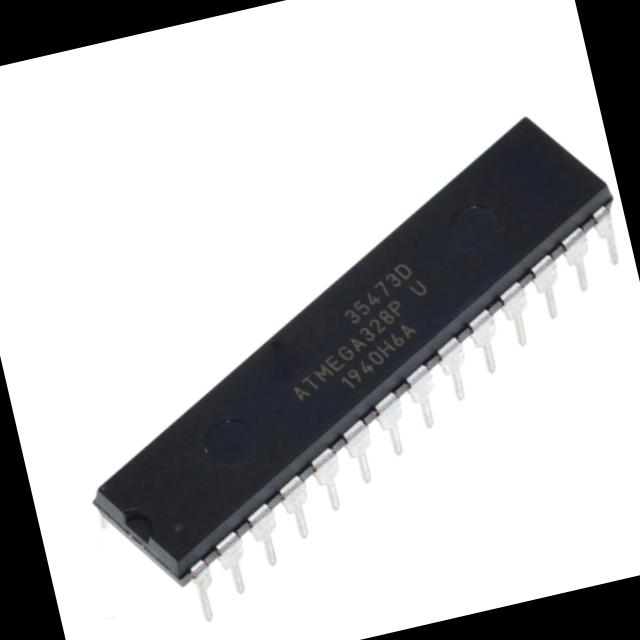atmega: (25, 97, 640, 639)
